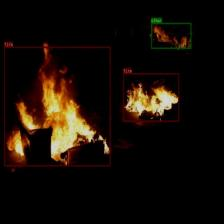fire: (3, 46, 110, 166), (123, 73, 179, 121)
